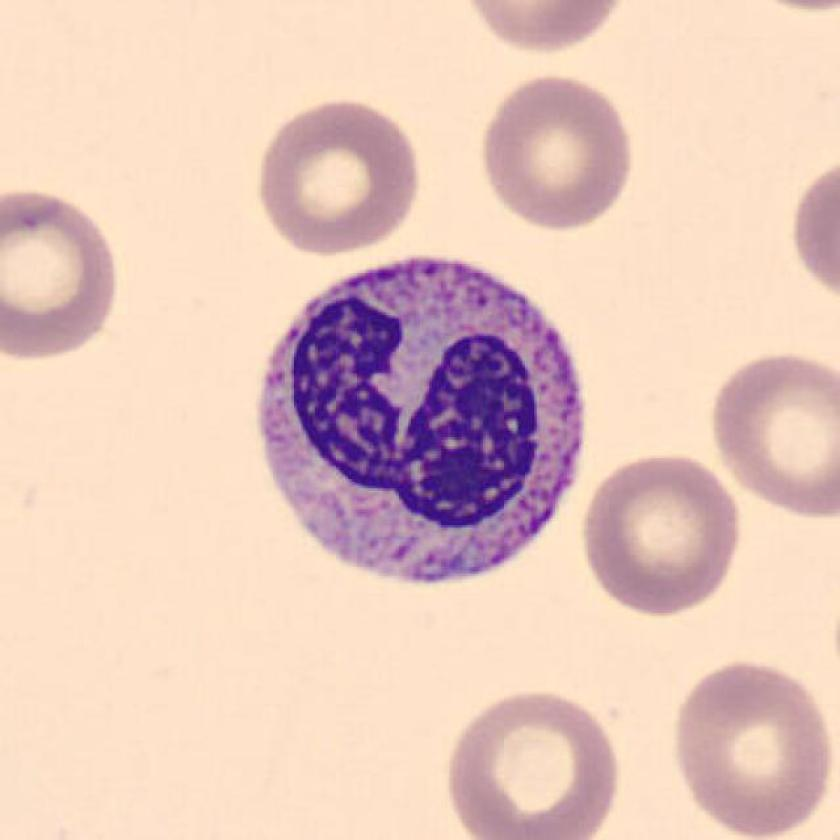neutrophil: (259, 256, 587, 583)
